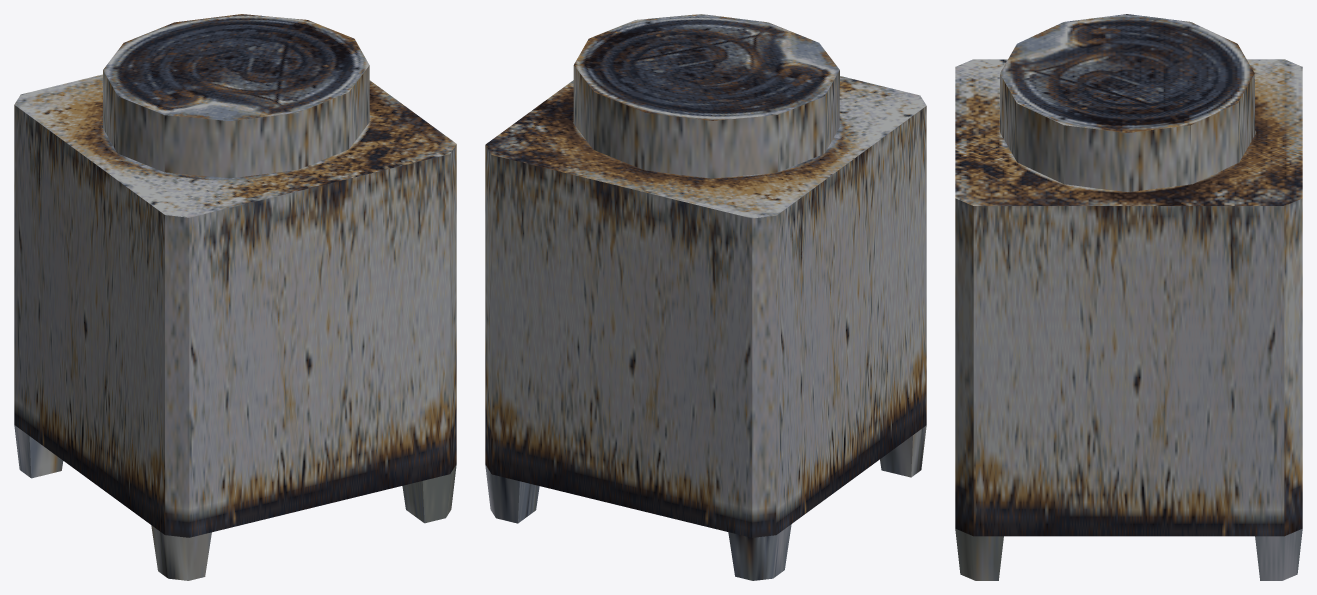
Rendered from Stove_Free.glb.
The picture shows the model from 3 angles, left to right: view 1: azimuth 30°, elevation 25°; view 2: azimuth 150°, elevation 25°; view 3: azimuth 270°, elevation 25°; orthographic projection. The views are drawn at different scales.
Parts seen in each view (by area): view 1: Cube; view 2: Cube; view 3: Cube.
Boxes of the visible parts, bbox=[...] form: Cube: bbox=[14, 14, 456, 580]; Cube: bbox=[485, 14, 926, 580]; Cube: bbox=[955, 14, 1302, 580].
Size of the model in its own units: 0.65 by 0.9 by 0.65.
1 material, 1 textured.
